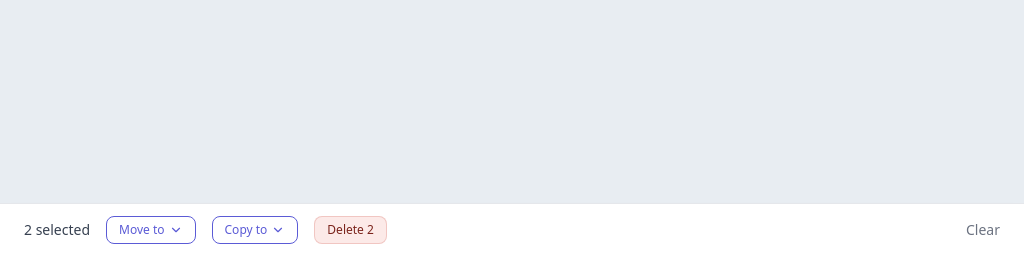
Scenario: BulkActionBar — suite picker search › filters the Move-to suite list by the search query
The image size is (1024, 256).
Click the button "Move to" at (151, 230), box x1=106 y1=216 x2=196 y2=244
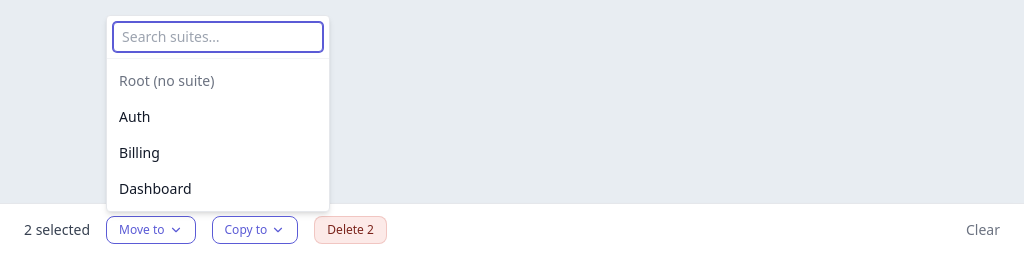
Expected: the button "Billing" is shown, x1=107 y1=135 x2=329 y2=171
Type "auth" into the field labelled "Search suites…" at (218, 37), box x1=113 y1=22 x2=323 y2=52
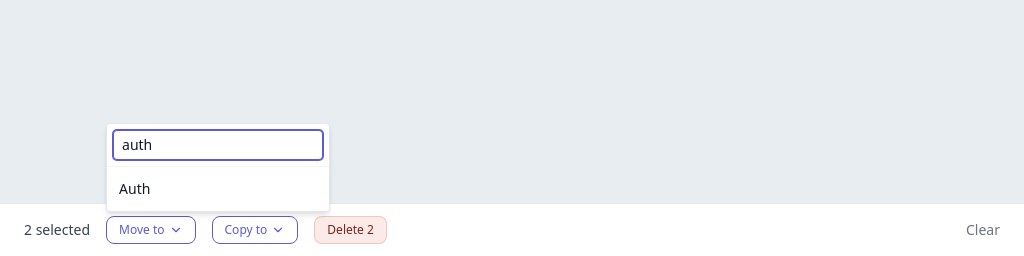
Expected: the button "Auth" is shown, x1=107 y1=171 x2=329 y2=207
Expected: the button "Billing" is gone
Expected: the button "Dashboard" is gone
